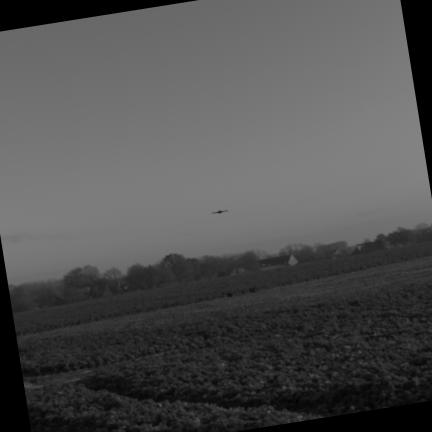Shahed: (211, 210, 228, 214)
